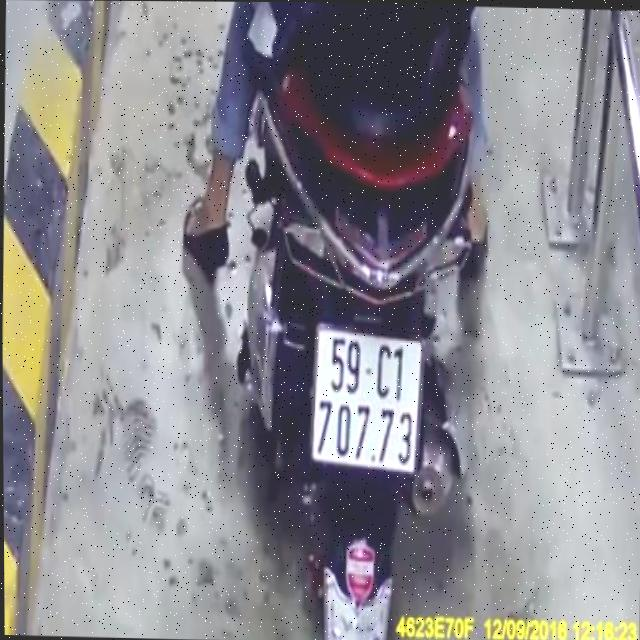motorcycle: (228, 20, 498, 637)
plate: (305, 320, 426, 474)
